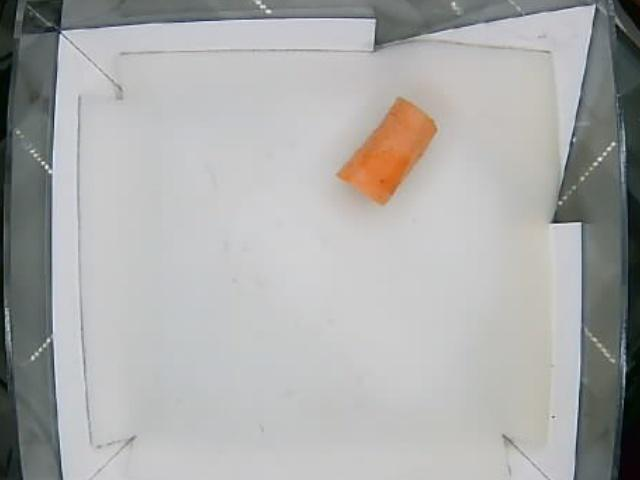Carrot: (337, 98, 442, 205)
